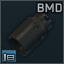Lantac BMD 7.62x51 Blast Mitigation Device: (0, 0, 64, 64)
